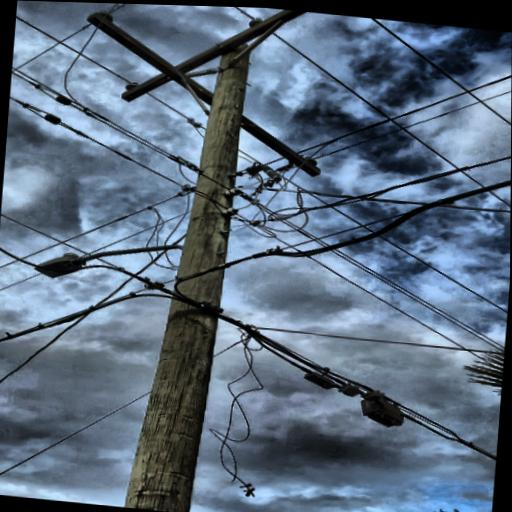pole: (100, 23, 263, 512)
street light: (32, 226, 193, 293)
